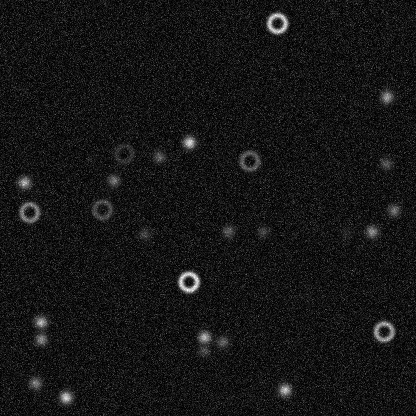Ring: (111, 141, 135, 165), (371, 319, 395, 343), (90, 197, 114, 221), (265, 11, 289, 35), (17, 200, 41, 224), (176, 269, 200, 293), (237, 148, 261, 172)
Spot: (363, 223, 379, 239), (220, 223, 236, 239), (136, 226, 152, 242), (150, 148, 166, 164), (378, 155, 394, 171), (378, 88, 394, 104), (276, 381, 292, 397), (57, 389, 73, 405), (385, 202, 401, 218), (254, 223, 270, 239), (214, 333, 230, 349), (196, 329, 212, 345), (16, 174, 32, 190), (338, 224, 354, 240), (32, 314, 48, 330), (27, 374, 43, 390), (33, 331, 49, 347), (181, 134, 197, 150), (105, 172, 121, 188), (195, 342, 211, 358)
